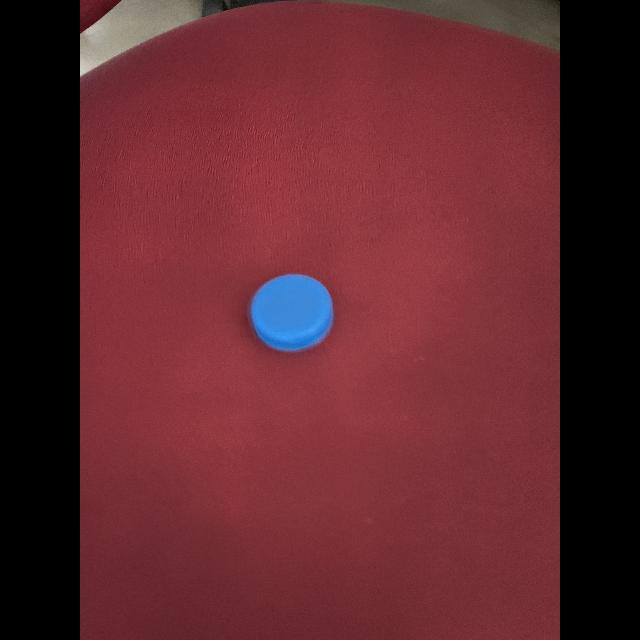plastic_bottle_cap: (244, 275, 336, 357)
